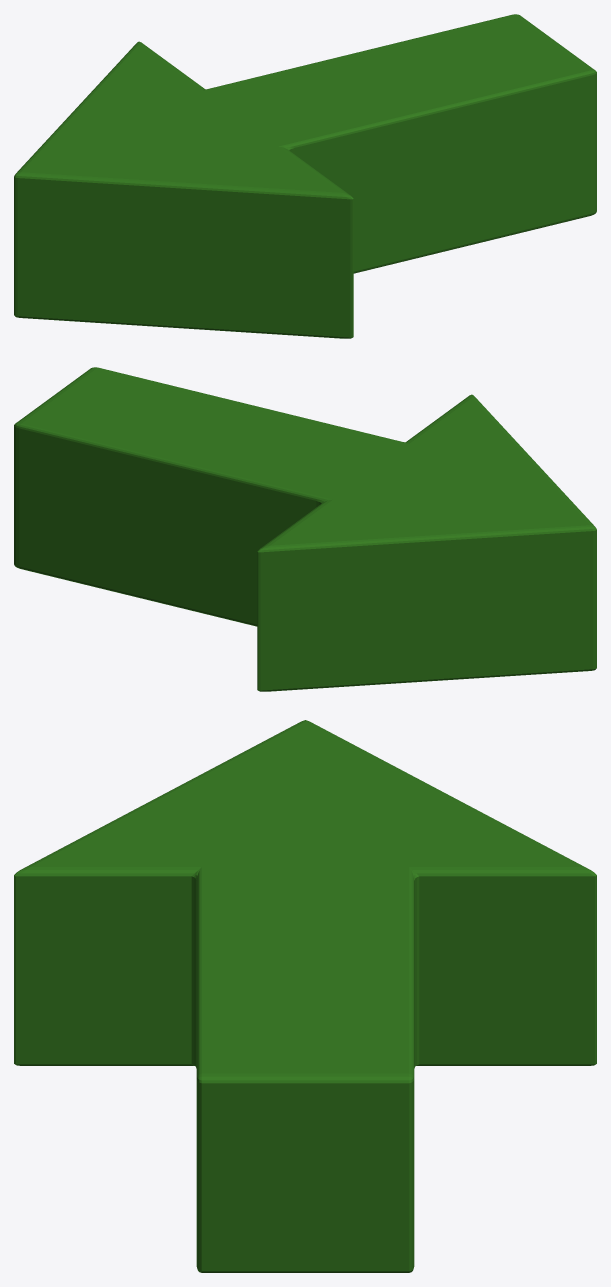
The model's file is Arrow.fbx.
3 views of the same model, one above another, from view 1: azimuth 30°, elevation 25°; view 2: azimuth 150°, elevation 25°; view 3: azimuth 270°, elevation 25° (orthographic). The views are drawn at different scales.
Parts seen in each view (by area): view 1: Cube.031; view 2: Cube.031; view 3: Cube.031.
Boxes of the visible parts, bbox=[...] form: Cube.031: bbox=[14, 14, 596, 338]; Cube.031: bbox=[14, 367, 596, 691]; Cube.031: bbox=[14, 720, 596, 1272].
Bounding box in the file's own units: 785 × 200 × 536.
